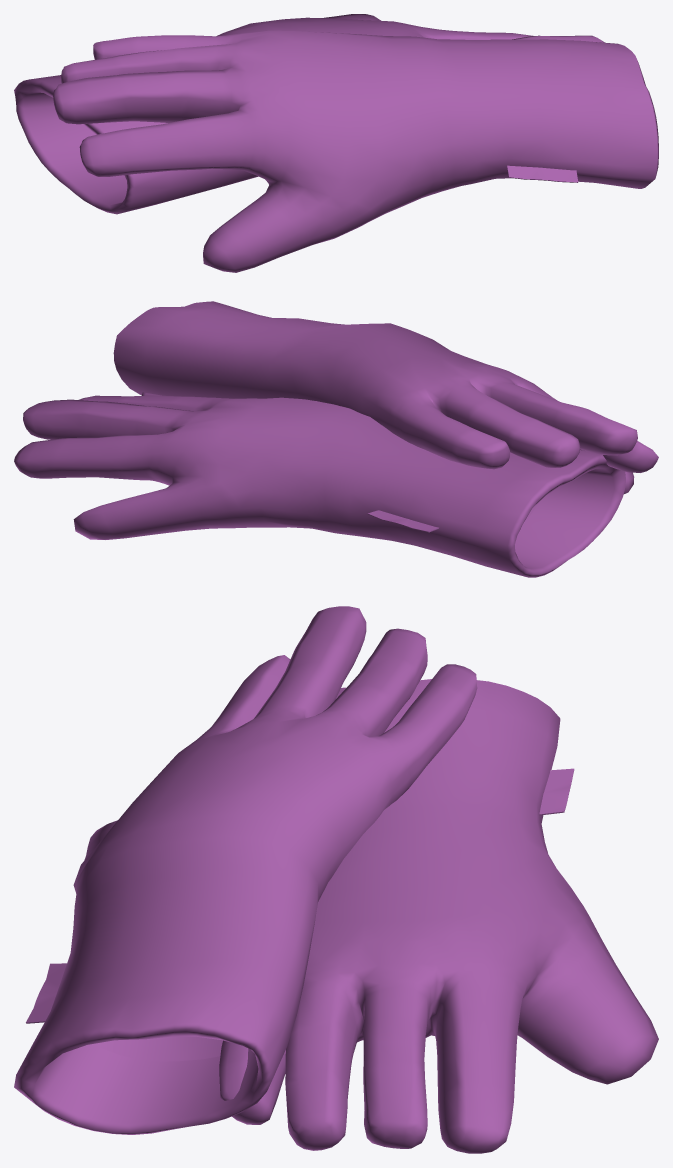
File: seguranca-obj_luvas.fbx
The picture shows the model from 3 angles, top to bottom: view 1: azimuth 30°, elevation 25°; view 2: azimuth 150°, elevation 25°; view 3: azimuth 270°, elevation 25°; orthographic projection. The views are drawn at different scales.
Visible parts, largest first — view 1: Luvas1, Luvas; view 2: Luvas, Luvas1; view 3: Luvas1, Luvas.
Part boxes in pixels (box(x1,y1,x2,y2)): Luvas1: box(53, 30, 658, 272); Luvas: box(14, 14, 604, 214); Luvas: box(14, 392, 625, 577); Luvas1: box(113, 301, 658, 493); Luvas1: box(14, 606, 477, 1134); Luvas: box(219, 679, 658, 1153).
Size of the model in its own units: 8.75 by 2.22 by 6.19.
